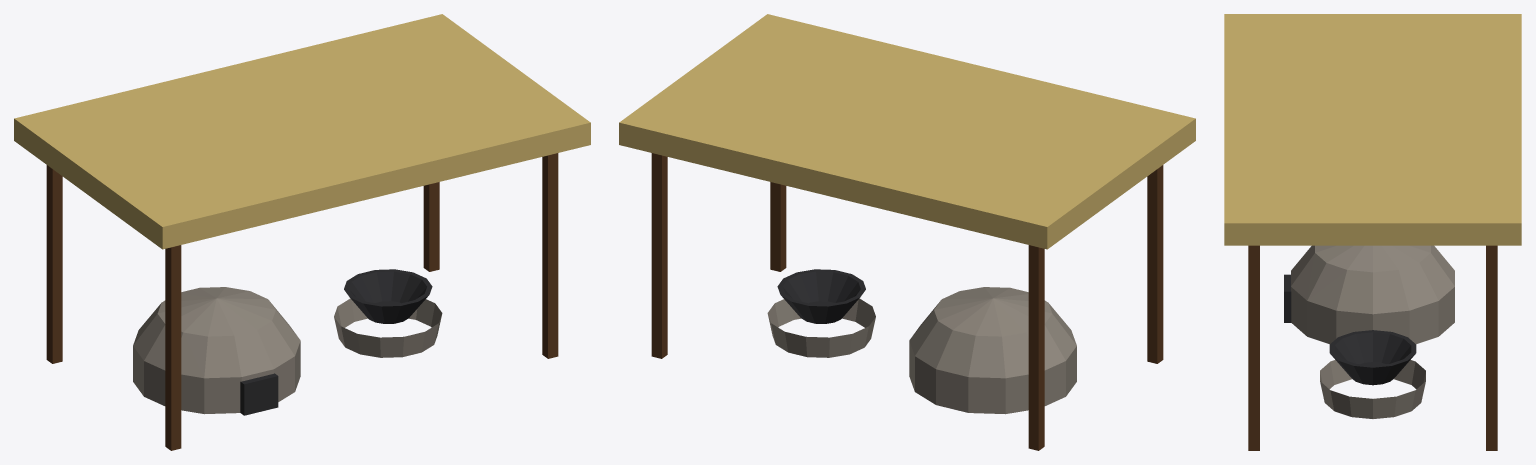
The model's file is kitchen_shelter.obj.
3 renders of one model, left to right at view 1: azimuth 30°, elevation 25°; view 2: azimuth 150°, elevation 25°; view 3: azimuth 270°, elevation 25°, orthographic.
Visible parts, largest first — view 1: kitchen_shelter; view 2: kitchen_shelter; view 3: kitchen_shelter.
Part boxes in pixels (box(x1,y1,x2,y2)): kitchen_shelter: box(14, 14, 590, 450); kitchen_shelter: box(619, 14, 1195, 450); kitchen_shelter: box(1224, 14, 1521, 450).
Size of the model in its own units: 5 by 2.65 by 3.
